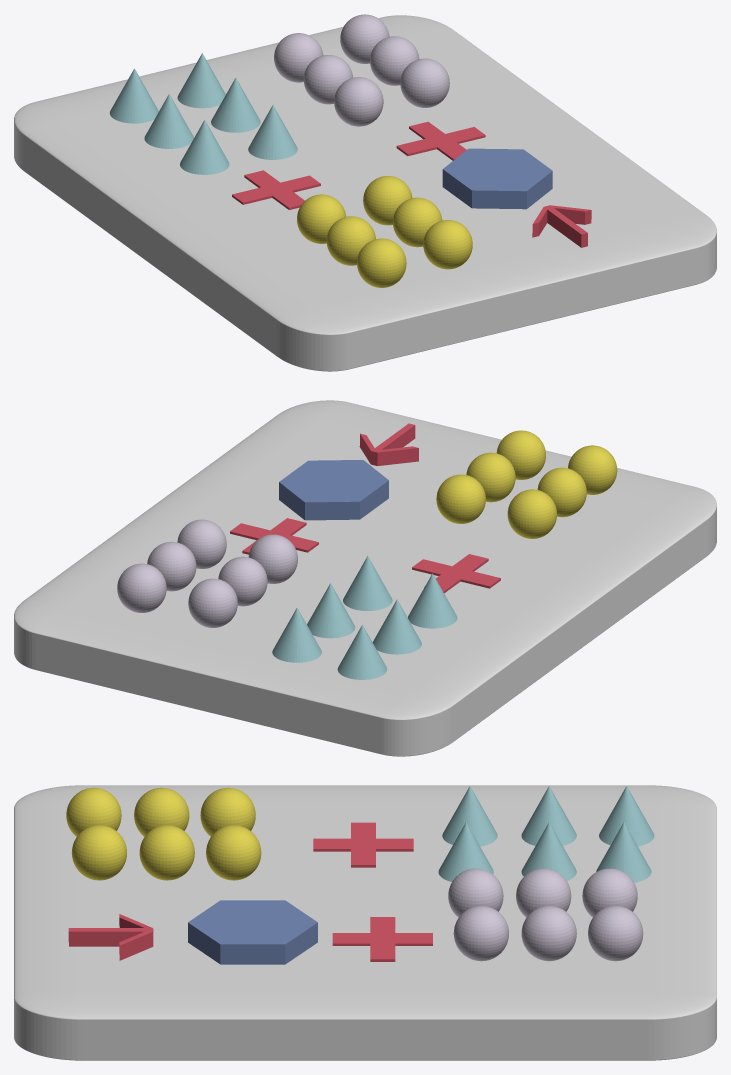
Rendered from main-model.glb.
The picture shows the model from 3 angles, top to bottom: view 1: azimuth 30°, elevation 25°; view 2: azimuth 150°, elevation 25°; view 3: azimuth 270°, elevation 25°; orthographic projection. The views are drawn at different scales.
Visible parts, largest first — view 1: Mesh_Mesh_head_geo.001_lambert2SG.001; view 2: Mesh_Mesh_head_geo.001_lambert2SG.001; view 3: Mesh_Mesh_head_geo.001_lambert2SG.001.
Boxes of the visible parts, <box> form: Mesh_Mesh_head_geo.001_lambert2SG.001: <box>14,14,716,371</box>; Mesh_Mesh_head_geo.001_lambert2SG.001: <box>14,400,716,756</box>; Mesh_Mesh_head_geo.001_lambert2SG.001: <box>14,785,716,1060</box>.
Bounding box in the file's own units: 0.1457 × 0.0291 × 0.185.
